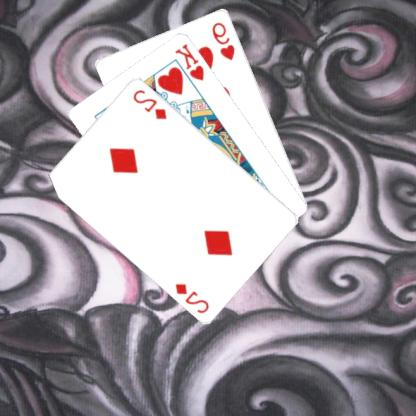2D: (132, 86, 170, 121), (174, 280, 212, 314)
9H: (211, 19, 238, 62)
KH: (174, 41, 208, 82)
